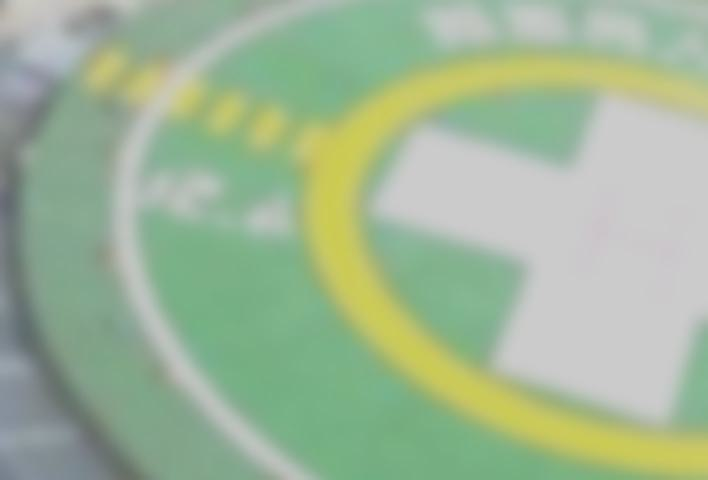Apron: (297, 39, 708, 480)
